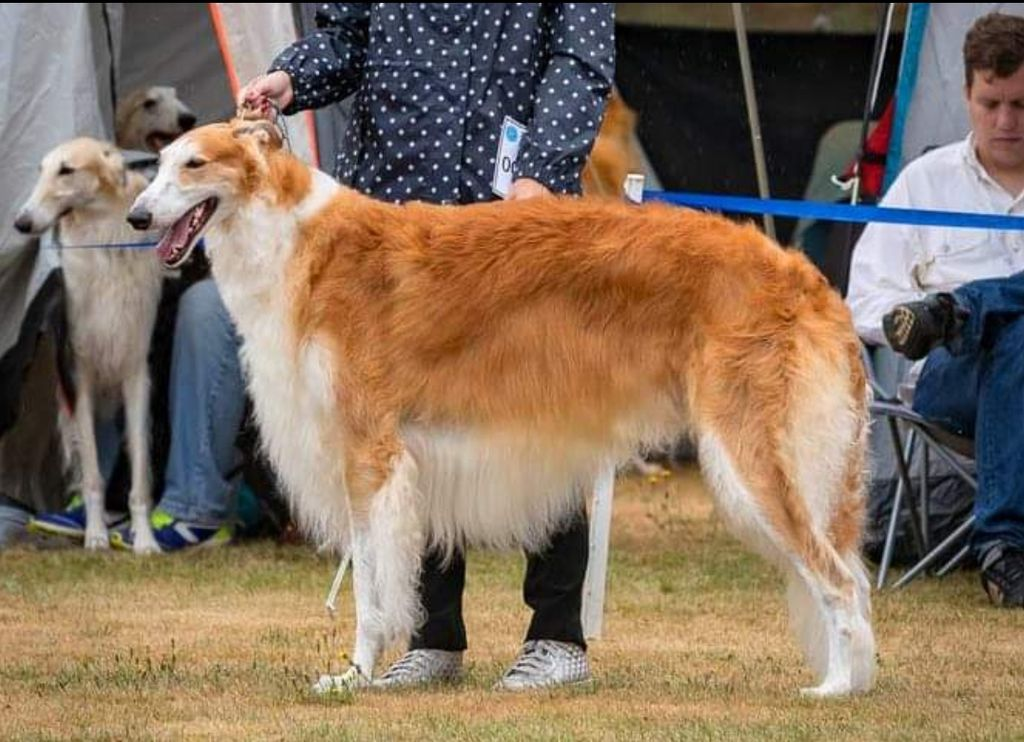borzoi: (119, 114, 906, 705), (17, 122, 160, 566), (97, 79, 206, 147)
